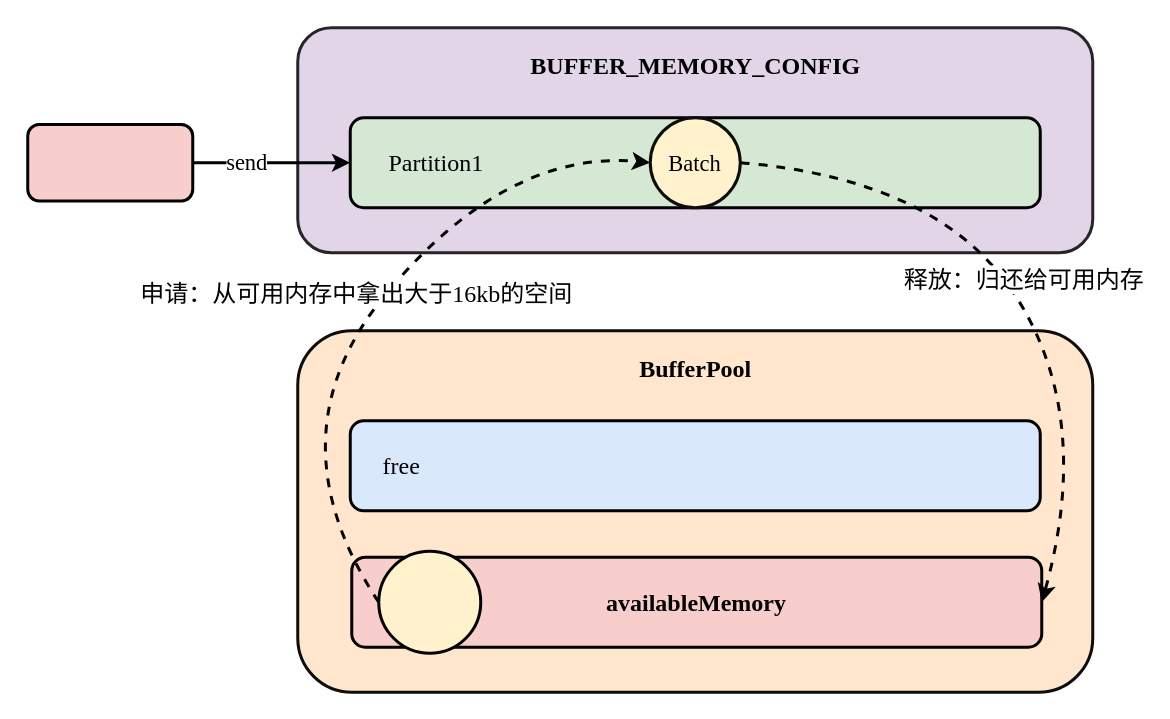
Some shapes in this 1170 by 719 pixel diagram are drawn without their labels. The shapes that lost their labels are listed below. From the top down, each one's centre as x and y in pixels, then its label:
(x=110, y=162): Producer
(x=429, y=601): 大于16K的Buffer
